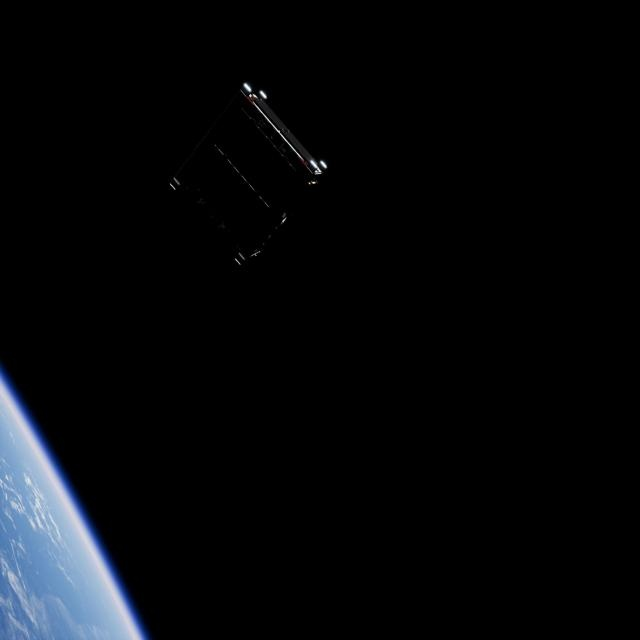satellite: (165, 77, 340, 273)
